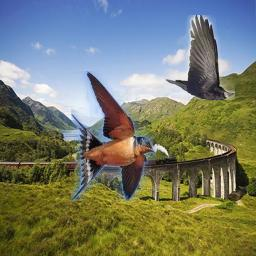Crow: (166, 15, 235, 100)
Swallow: (71, 71, 156, 201)
